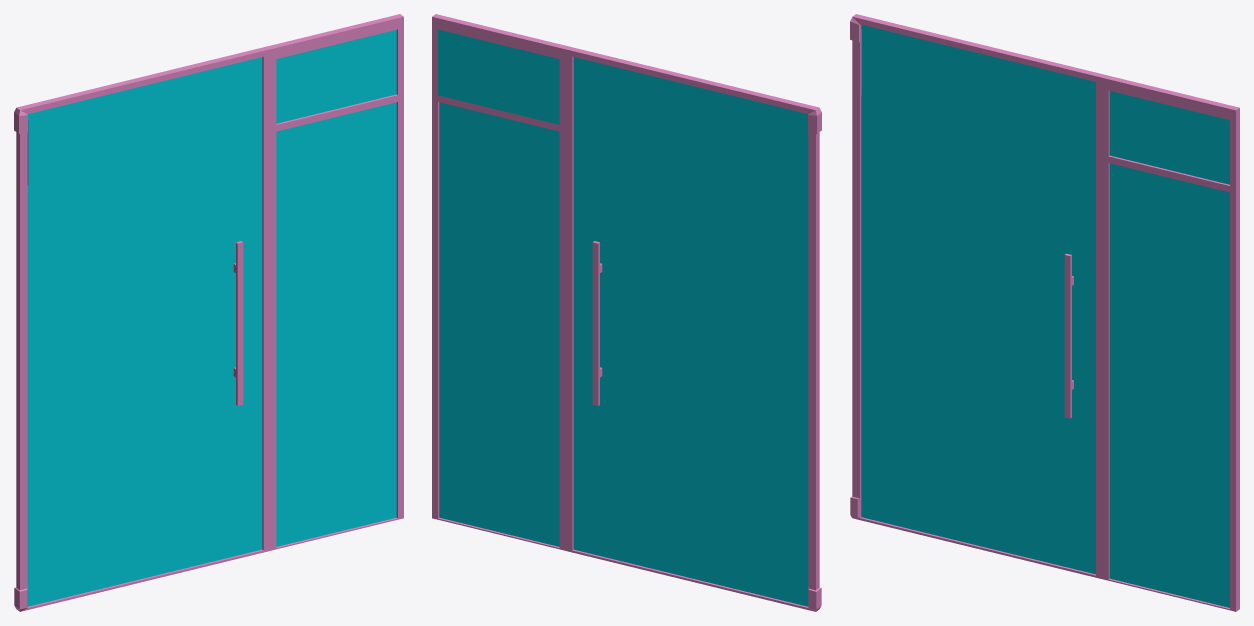
The model's file is WallOffice4Door.fbx.
The picture shows the model from 3 angles, left to right: view 1: azimuth 30°, elevation 25°; view 2: azimuth 150°, elevation 25°; view 3: azimuth 330°, elevation 25°; orthographic projection.
Visible parts, largest first — view 1: Cube.001, Cube; view 2: Cube.001, Cube; view 3: Cube.001, Cube.
Boxes of the visible parts, x1,y1,x2,y2 form: Cube.001: [14, 46, 271, 611]; Cube: [27, 14, 403, 550]; Cube.001: [564, 46, 821, 611]; Cube: [432, 14, 567, 550]; Cube.001: [850, 14, 1106, 579]; Cube: [860, 29, 1239, 611].
Bounding box in the file's own units: 201 × 250 × 8.25.
